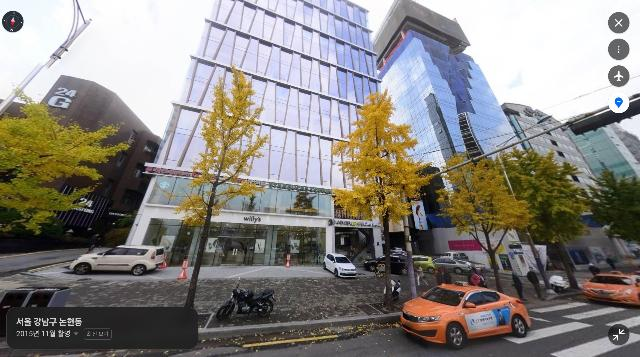ginkgo: (167, 63, 273, 309), (329, 87, 436, 313), (0, 88, 134, 249), (431, 150, 533, 303)
other: (528, 146, 592, 295)
